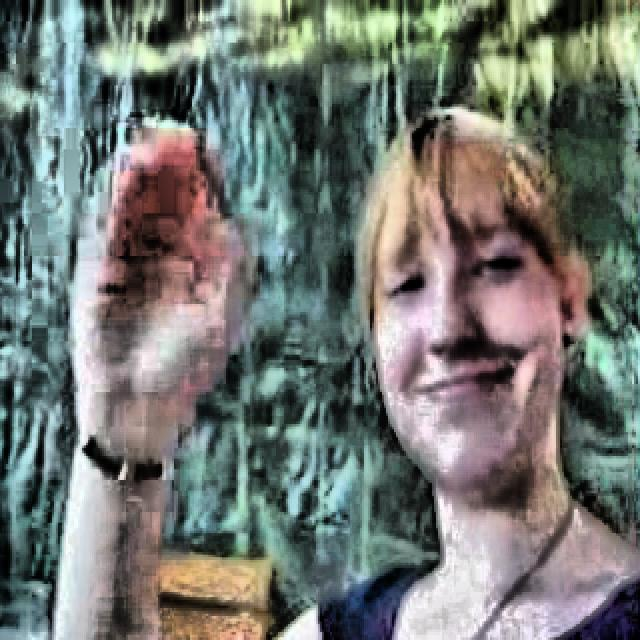T: (42, 108, 638, 632)
